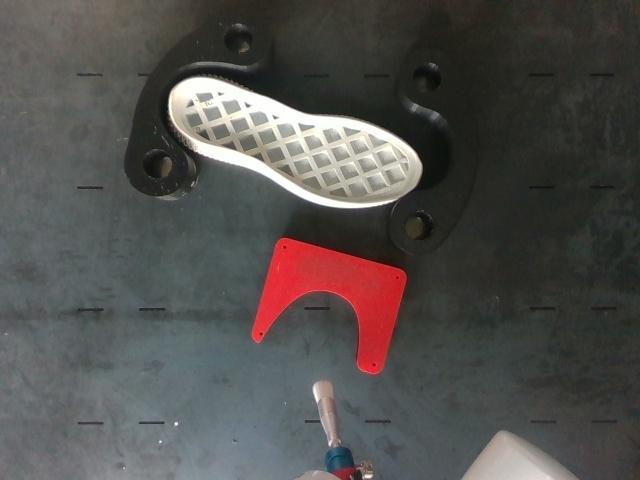shoes: (170, 77, 421, 202)
